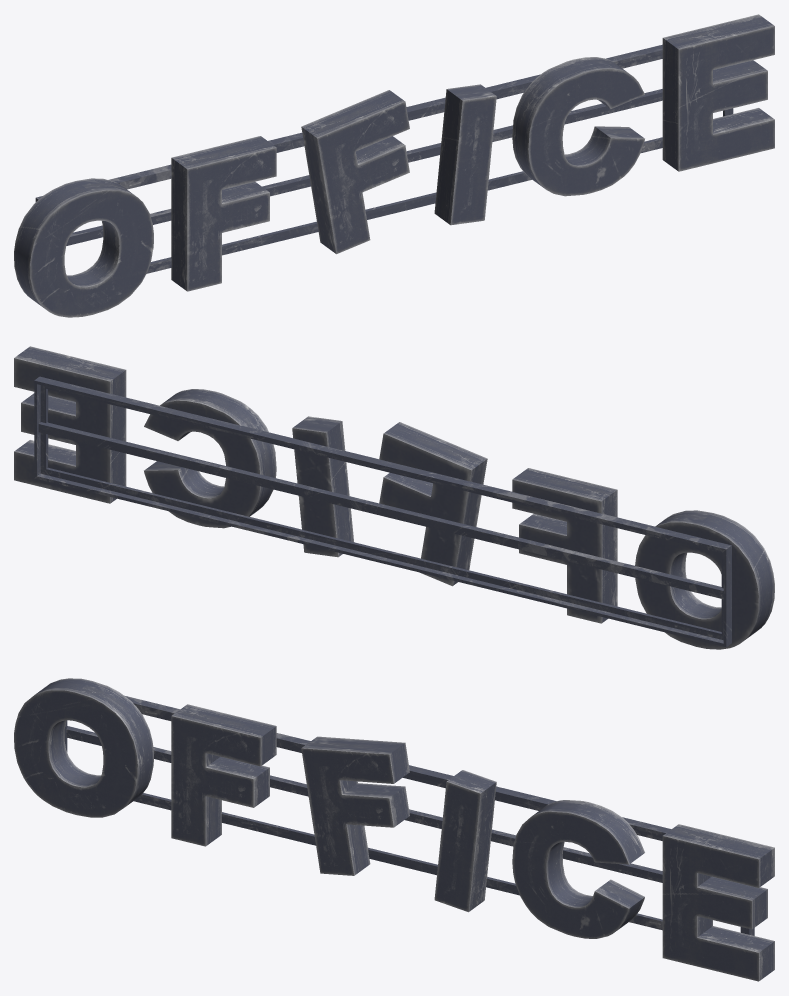
Rendered from Office1.fbx.
3 renders of one model, top to bottom at view 1: azimuth 30°, elevation 25°; view 2: azimuth 150°, elevation 25°; view 3: azimuth 330°, elevation 25°, orthographic.
Visible parts, largest first — view 1: polySurface366; view 2: polySurface366; view 3: polySurface366.
Boxes of the visible parts, x1,y1,x2,y2 form: polySurface366: [14, 14, 774, 317]; polySurface366: [14, 346, 774, 649]; polySurface366: [14, 678, 774, 981].
Size of the model in its own units: 532 by 94.41 by 26.67.
1 material, 1 textured.
